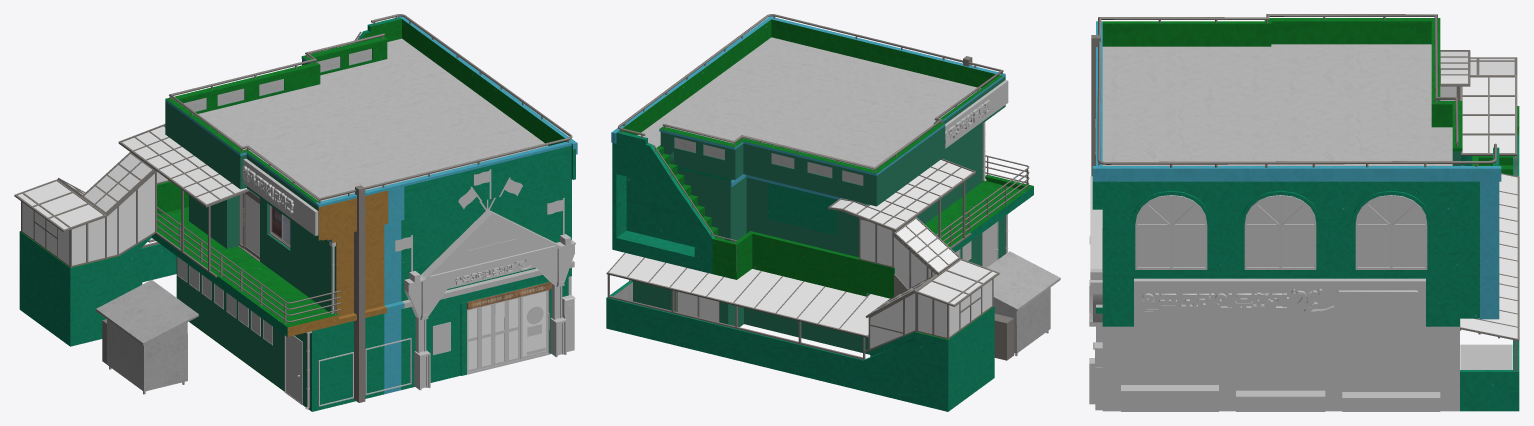
Rendered from CulturalCenterOfKoreansOfTheCIS_Exterior.fbx.
3 views of the same model, side by side, from view 1: azimuth 30°, elevation 25°; view 2: azimuth 150°, elevation 25°; view 3: azimuth 270°, elevation 25° (orthographic). The views are drawn at different scales.
Parts seen in each view (by area): view 1: Walls, ExtAttatchments, Wall_Glass, InnerProps, 1F_Main_Door_Wall_Glass, 1F_Side_Door_ExtAttatchments, Wall_Glass1; view 2: Walls, Wall_Glass, ExtAttatchments, 1F_Main_Door_Wall_Glass (×2), 1F_Side_Door_ExtAttatchments; view 3: Walls, ExtAttatchments, Wall_Glass.
Boxes of the visible parts, left/top/right/bottom form: Walls: left=14, top=14, right=577, bottom=411; ExtAttatchments: left=177, top=158, right=575, bottom=409; Wall_Glass: left=18, top=126, right=517, bottom=369; InnerProps: left=272, top=207, right=551, bottom=309; 1F_Main_Door_Wall_Glass: left=522, top=291, right=545, bottom=356; 1F_Side_Door_ExtAttatchments: left=286, top=336, right=300, bottom=402; Wall_Glass1: left=246, top=194, right=259, bottom=256; Walls: left=606, top=14, right=1060, bottom=411; Wall_Glass: left=609, top=160, right=996, bottom=348; ExtAttatchments: left=629, top=80, right=1008, bottom=281; 1F_Main_Door_Wall_Glass (×2): left=677, top=291, right=718, bottom=321; 1F_Side_Door_ExtAttatchments: left=983, top=222, right=997, bottom=267; Walls: left=1091, top=14, right=1519, bottom=411; ExtAttatchments: left=1089, top=119, right=1512, bottom=411; Wall_Glass: left=1440, top=51, right=1517, bottom=338.
Size of the model in its own units: 1405 by 752 by 1155.
